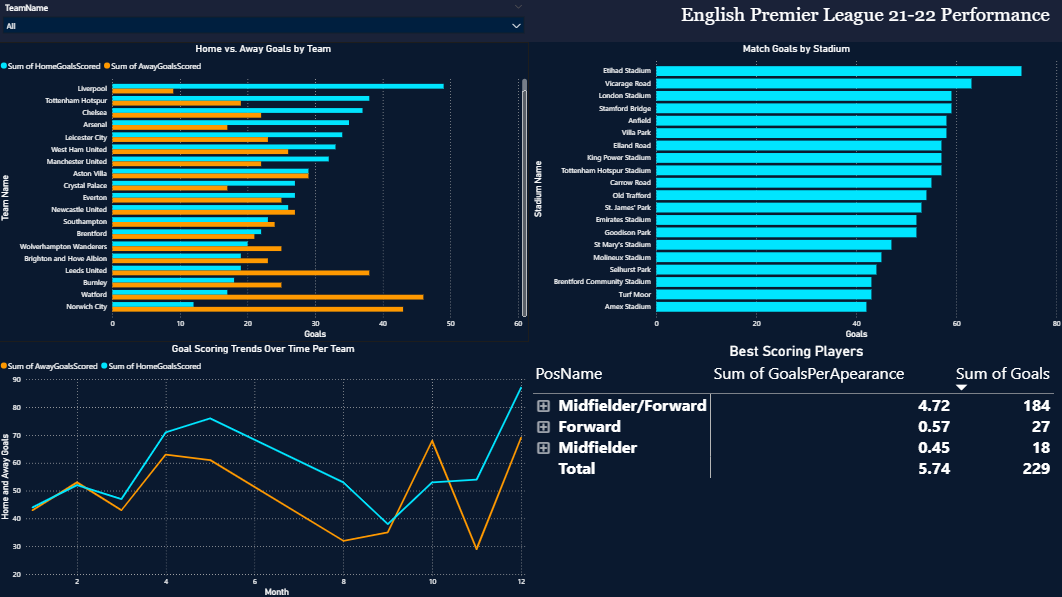

Layout of this report page (visuals, bound fields, positions):
{"tool":"powerbi","page":{"name":"Dashboard","canvas":[1777,1000],"ordinal":0},"visuals":[{"type":"shape","box":[0,0,1778.3,70],"z":0},{"type":"clusteredBarChart","title":"Home vs. Away Goals by Team","fields":{"Category":["Team_dim.TeamName"],"Y":["MatchFact.HomeGoalsScored","MatchFact.AwayGoalsScored"]},"box":[0,70,888,500],"z":1000},{"type":"barChart","title":"Match Goals by Stadium","fields":{"Category":["Stadium_dim.StadiumName"],"Y":["MatchFact.Match Goals"]},"box":[888,70,890,500],"z":2000},{"type":"lineChart","title":"Goal Scoring Trends Over Time Per Team","fields":{"Category":["Date_dim.Month"],"Y":["MatchFact.AwayGoalsScored","MatchFact.HomeGoalsScored"]},"box":[0,570,888,430],"z":3000},{"type":"slicer","fields":{"Values":["Team_dim.TeamName"]},"box":[0,0,888.3,70],"z":4000},{"type":"pivotTable","title":"Best Scoring Players","fields":{"Rows":["Pos_dim.PosName","player_dim.PlayerName"],"Values":["PlayerFact.GoalsPerApearance","PlayerFact.Goals"]},"box":[887.5,570,890,430],"z":5000},{"type":"textbox","box":[1135,0,642.5,70],"z":5001}]}

Visuals, with their boxes in screenshot pixels (x1, y1, x2, y2), scaled from the page's 1777x1000 canvas onto the 1062x597 screenshot:
shape: (0, 0, 1061, 42)
"Home vs. Away Goals by Team" clusteredBarChart: (0, 42, 531, 340)
"Match Goals by Stadium" barChart: (531, 42, 1061, 340)
"Goal Scoring Trends Over Time Per Team" lineChart: (0, 340, 531, 596)
slicer - Team_dim.TeamName: (0, 0, 531, 42)
"Best Scoring Players" pivotTable: (530, 340, 1061, 596)
textbox: (678, 0, 1061, 42)
